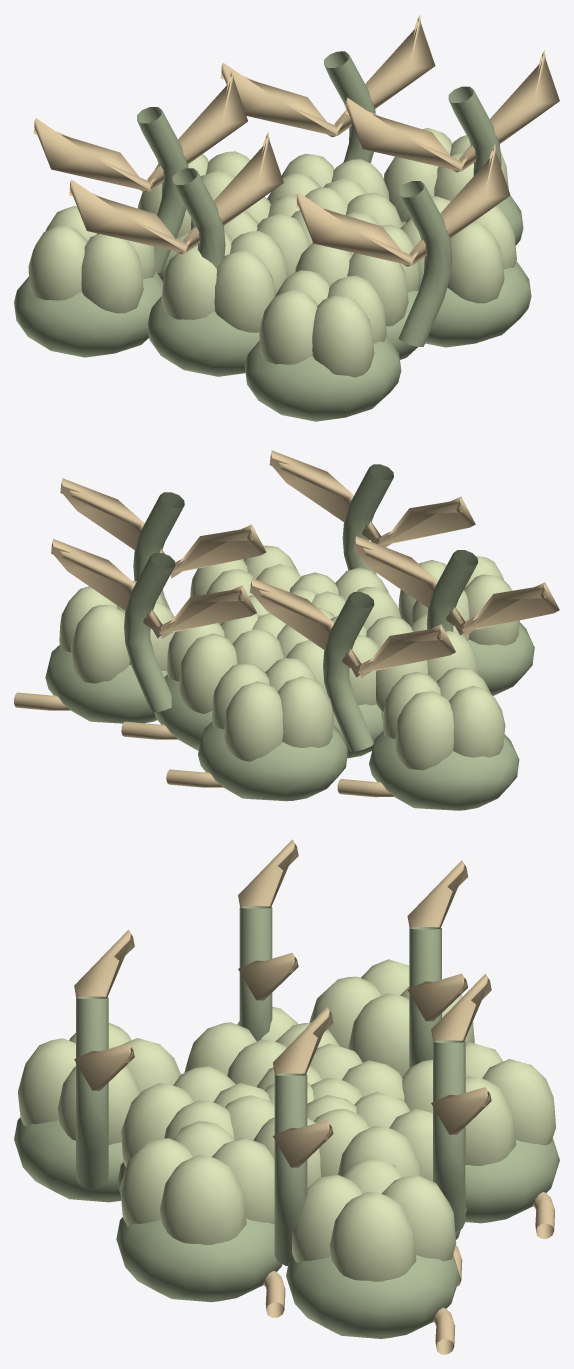
File: bio_oxygen_reef_02_far.glb
3 renders of one model, top to bottom at view 1: azimuth 30°, elevation 25°; view 2: azimuth 150°, elevation 25°; view 3: azimuth 270°, elevation 25°, orthographic. The views are drawn at different scales.
Parts seen in each view (by area): view 1: Lobed gas sac.028, Lobed gas sac.036, Lobed gas sac.016, Photosynthetic cushion.007, Photosynthetic cushion.009, Secondary fan lobe.002, Secondary fan lobe.004, Secondary fan lobe, Secondary fan lobe.008, Secondary fan lobe.006, Lobed gas sac.020, Photosynthetic cushion.004 (+14 smaller); view 2: Lobed gas sac.036, Lobed gas sac.024, Photosynthetic cushion.009, Photosynthetic cushion.006, Lobed gas sac.012, Lobed gas sac.032, Secondary fan lobe.006, Secondary fan lobe.008, Secondary fan lobe.002, Secondary fan lobe.004, Secondary fan lobe, Photosynthetic cushion.008 (+18 smaller); view 3: Lobed gas sac.032, Lobed gas sac.020, Photosynthetic cushion.008, Photosynthetic cushion.005, Lobed gas sac.024, Lobed gas sac.028, Lobed gas sac.036, Lobed gas sac.012, Lobed gas sac.008, Photosynthetic cushion.006, Branching support.002, Lobed gas sac.016 (+15 smaller).
Boxes of the visible parts, box(x1,y1,x2,y2) form: Lobed gas sac.028: box(259, 270, 386, 377); Lobed gas sac.036: box(28, 206, 155, 313); Lobed gas sac.016: box(161, 231, 287, 332); Photosynthetic cushion.007: box(244, 336, 401, 421); Photosynthetic cushion.009: box(14, 271, 162, 357); Secondary fan lobe.002: box(33, 70, 247, 192); Secondary fan lobe.004: box(296, 144, 510, 266); Secondary fan lobe: box(345, 50, 559, 172); Secondary fan lobe.008: box(69, 131, 283, 254); Secondary fan lobe.006: box(220, 15, 435, 137); Lobed gas sac.020: box(400, 196, 516, 303); Photosynthetic cushion.004: box(147, 296, 259, 376); Lobed gas sac.036: box(383, 667, 505, 770); Lobed gas sac.024: box(211, 658, 334, 761); Photosynthetic cushion.009: box(369, 731, 519, 810); Photosynthetic cushion.006: box(198, 721, 348, 801); Lobed gas sac.012: box(166, 613, 283, 713); Lobed gas sac.032: box(59, 581, 174, 683); Secondary fan lobe.006: box(51, 539, 256, 638); Secondary fan lobe.008: box(353, 536, 559, 636); Secondary fan lobe.002: box(250, 578, 455, 678); Secondary fan lobe.004: box(269, 450, 475, 547); Secondary fan lobe: box(60, 478, 266, 578); Photosynthetic cushion.008: box(45, 645, 167, 723); Lobed gas sac.032: box(292, 1157, 456, 1281); Lobed gas sac.020: box(120, 1121, 274, 1244); Photosynthetic cushion.008: box(286, 1255, 459, 1338); Photosynthetic cushion.005: box(116, 1217, 282, 1302); Lobed gas sac.024: box(402, 1042, 555, 1165); Lobed gas sac.028: box(18, 1023, 180, 1144); Lobed gas sac.036: box(309, 959, 474, 1077); Lobed gas sac.012: box(314, 1091, 432, 1181); Lobed gas sac.008: box(121, 1066, 270, 1167); Photosynthetic cushion.006: box(465, 1138, 559, 1223); Branching support.002: box(76, 996, 108, 1188); Lobed gas sac.016: box(184, 1007, 340, 1087).
Size of the model in its own units: 1.86 by 0.7649 by 1.51.
